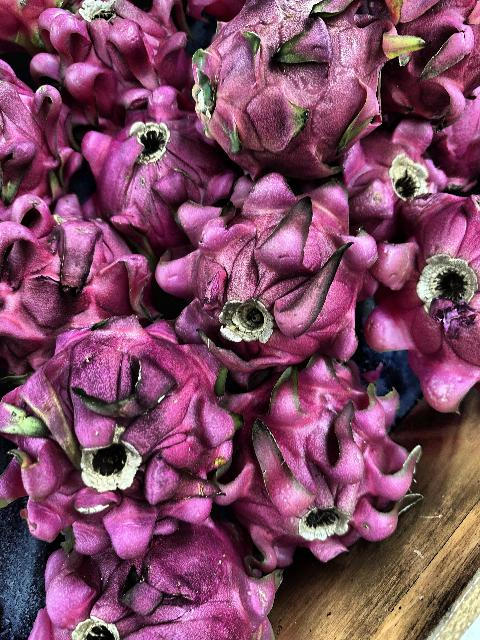buah-naga-belum-matang: (188, 1, 396, 170)
buah-naga-matang: (12, 321, 224, 544), (218, 351, 422, 571), (165, 184, 371, 360), (39, 522, 295, 640), (0, 190, 172, 342), (78, 98, 237, 228), (376, 218, 480, 404), (25, 0, 199, 106), (0, 46, 82, 212)
